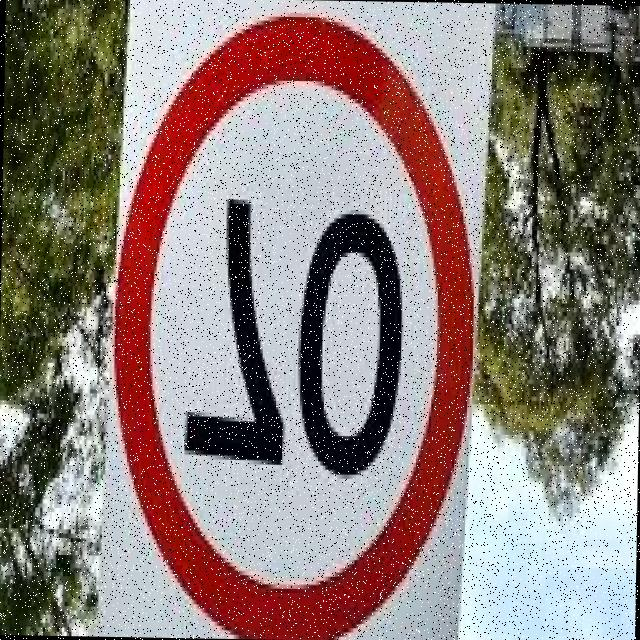speed_limit_70: (104, 13, 483, 640)
